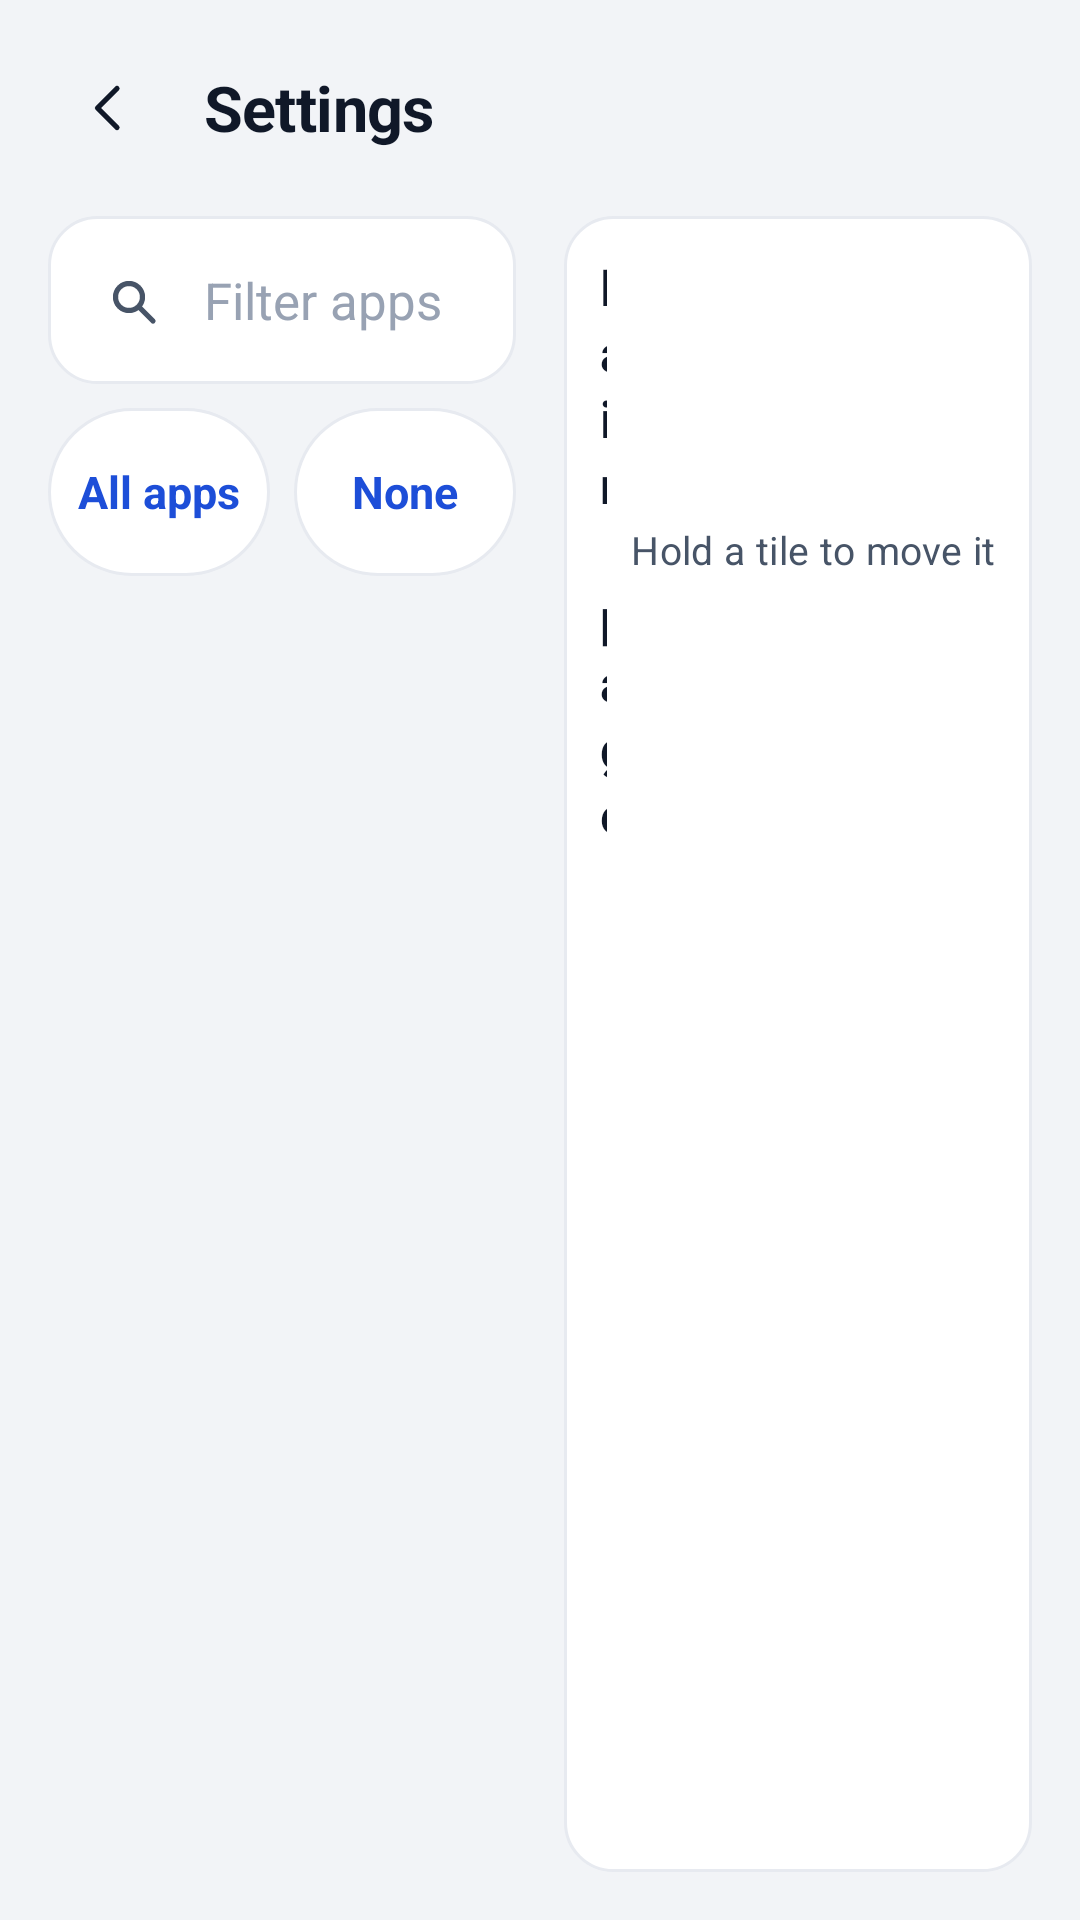

Point at icon controls on the screen. Image size 1080 × 1920, points as (x=x, y=y).
Back: (x=107, y=108)
search: (x=134, y=302)
